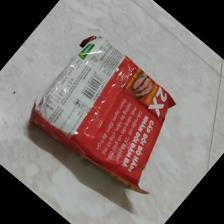3mien: (29, 33, 177, 195)
